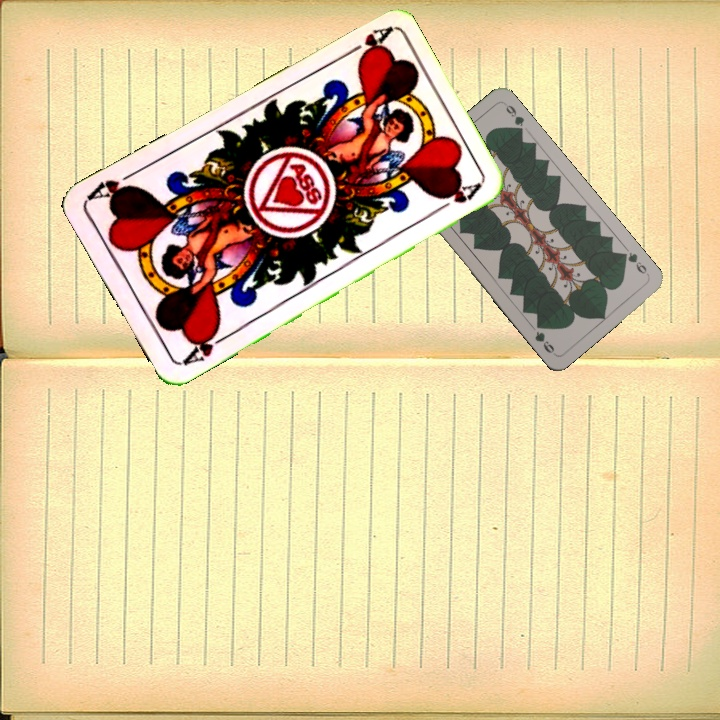G9: (616, 248, 651, 278)
HA: (178, 324, 231, 369), (337, 23, 392, 61)
